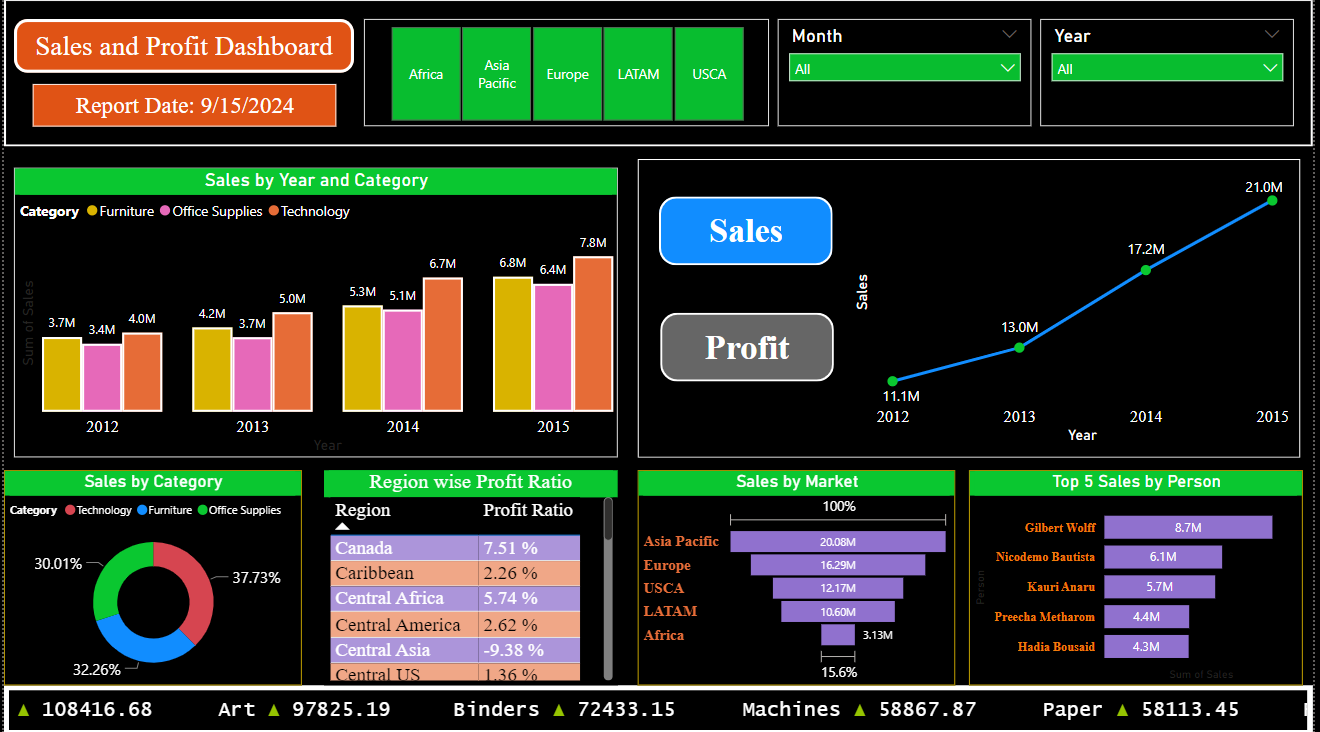

The dashboard page shown, as its layout file describes it:
{"tool":"powerbi","page":{"name":"Dashboard_1","canvas":[1280,720],"ordinal":0},"visuals":[{"type":"shape","box":[619.8,156.5,647.9,292.2],"z":0},{"type":"ScrollingTextVisual1448795304508","fields":{"Category":["Orders.Sub-Category"],"Measure Deviation":["Orders.Profit"]},"box":[0,671.1,1279.9,48.9],"z":1000},{"type":"barChart","title":"Top 5 Sales by Person","fields":{"Category":["People.Person"],"Y":["Orders.Sales"]},"box":[943.7,460.8,326.4,210.3],"z":2000},{"type":"funnel","title":"Sales by Market","fields":{"Y":["Orders.Sales"],"Category":["Orders.Market"]},"box":[619.8,460.8,310.5,210.3],"z":3000},{"type":"tableEx","title":"Region wise Profit Ratio","fields":{"Values":["Orders.Region","Orders.Profit Ratio"]},"box":[312.9,460.8,287.3,210.3],"z":4000},{"type":"donutChart","fields":{"Y":["Orders.Sales"],"Category":["Orders.Category"]},"box":[0,460.8,290.9,210.3],"z":5000},{"type":"clusteredColumnChart","title":"Sales by Year and Category","fields":{"Y":["Orders.Sales"],"Series":["Orders.Category"],"Category":["Date Table.Date.Variation.Date Hierarchy.Year"]},"box":[9.8,165,590.4,283.6],"z":6000},{"type":"shape","box":[0,0,1279.9,144.2],"z":7000},{"type":"lineChart","title":"Total Sales by Year","fields":{"Y":["Orders.Sales"],"Category":["Date Table.Date.Variation.Date Hierarchy.Year"]},"box":[826.3,165,435.2,275],"z":8000},{"type":"shape","title":"Sales_B","box":[640.5,193.1,169.9,67.2],"z":10000},{"type":"shape","title":"Profit_G","box":[641.8,306.8,169.9,67.2],"z":13000},{"type":"slicer","fields":{"Values":["Date Table.Date.Variation.Date Hierarchy.Year"]},"box":[1013.4,19.6,248.1,105.1],"z":14000},{"type":"slicer","fields":{"Values":["Date Table.MonthName"]},"box":[756.7,19.6,248.1,105.1],"z":15000},{"type":"slicer","fields":{"Values":["Orders.Market"]},"box":[352.1,19.6,396.1,105.1],"z":16000},{"type":"shape","box":[9.8,19.6,332.5,52.6],"z":17000},{"type":"card","fields":{"Values":["Date Table.Report_date"]},"box":[28.1,83.1,297,41.6],"z":18000}]}

Visuals, with their boxes in screenshot pixels (x1, y1, x2, y2), scaled from the page's 1280x720 canvas onto the 1320x732 screenshot:
shape: {"x1": 639, "y1": 159, "x2": 1307, "y2": 456}
ScrollingTextVisual1448795304508 - Orders.Sub-Category x Orders.Profit: {"x1": 0, "y1": 682, "x2": 1319, "y2": 731}
"Top 5 Sales by Person" barChart: {"x1": 973, "y1": 468, "x2": 1310, "y2": 682}
"Sales by Market" funnel: {"x1": 639, "y1": 468, "x2": 959, "y2": 682}
"Region wise Profit Ratio" tableEx: {"x1": 323, "y1": 468, "x2": 619, "y2": 682}
donutChart - Orders.Sales x Orders.Category: {"x1": 0, "y1": 468, "x2": 300, "y2": 682}
"Sales by Year and Category" clusteredColumnChart: {"x1": 10, "y1": 168, "x2": 619, "y2": 456}
shape: {"x1": 0, "y1": 0, "x2": 1319, "y2": 147}
"Total Sales by Year" lineChart: {"x1": 852, "y1": 168, "x2": 1301, "y2": 447}
"Sales_B" shape: {"x1": 661, "y1": 196, "x2": 836, "y2": 265}
"Profit_G" shape: {"x1": 662, "y1": 312, "x2": 837, "y2": 380}
slicer - Date Table.Date.Variation.Date Hierarchy.Year: {"x1": 1045, "y1": 20, "x2": 1301, "y2": 127}
slicer - Date Table.MonthName: {"x1": 780, "y1": 20, "x2": 1036, "y2": 127}
slicer - Orders.Market: {"x1": 363, "y1": 20, "x2": 772, "y2": 127}
shape: {"x1": 10, "y1": 20, "x2": 353, "y2": 73}
card - Date Table.Report_date: {"x1": 29, "y1": 84, "x2": 335, "y2": 127}
